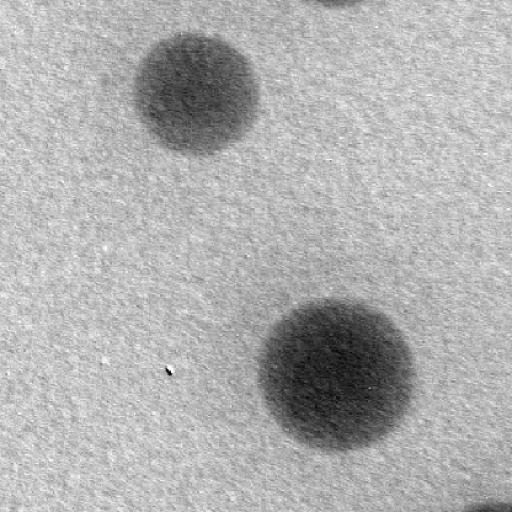Nanoparticles: (258, 292, 420, 456), (131, 28, 268, 162), (308, 0, 369, 10), (463, 500, 512, 512)
